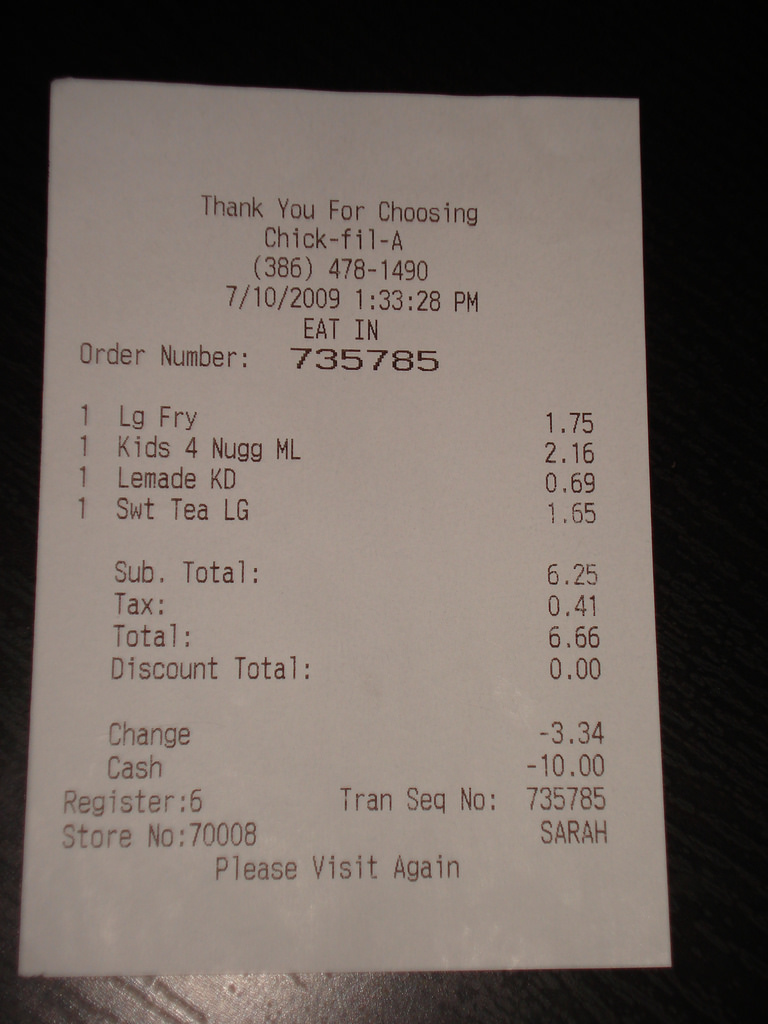Purchase summary: (46, 323, 631, 916)
Receipt: (30, 88, 679, 971)
Shop details: (74, 177, 571, 348)
